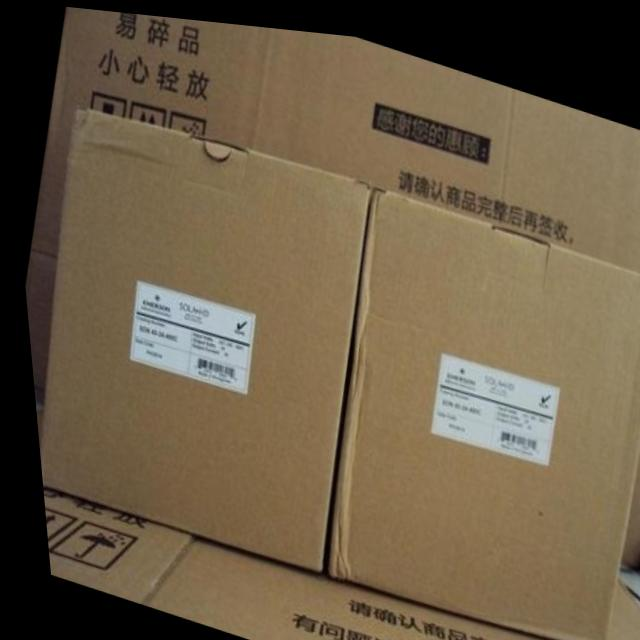box: (20, 5, 640, 390), (32, 105, 368, 567), (317, 177, 640, 639), (34, 488, 581, 640)
